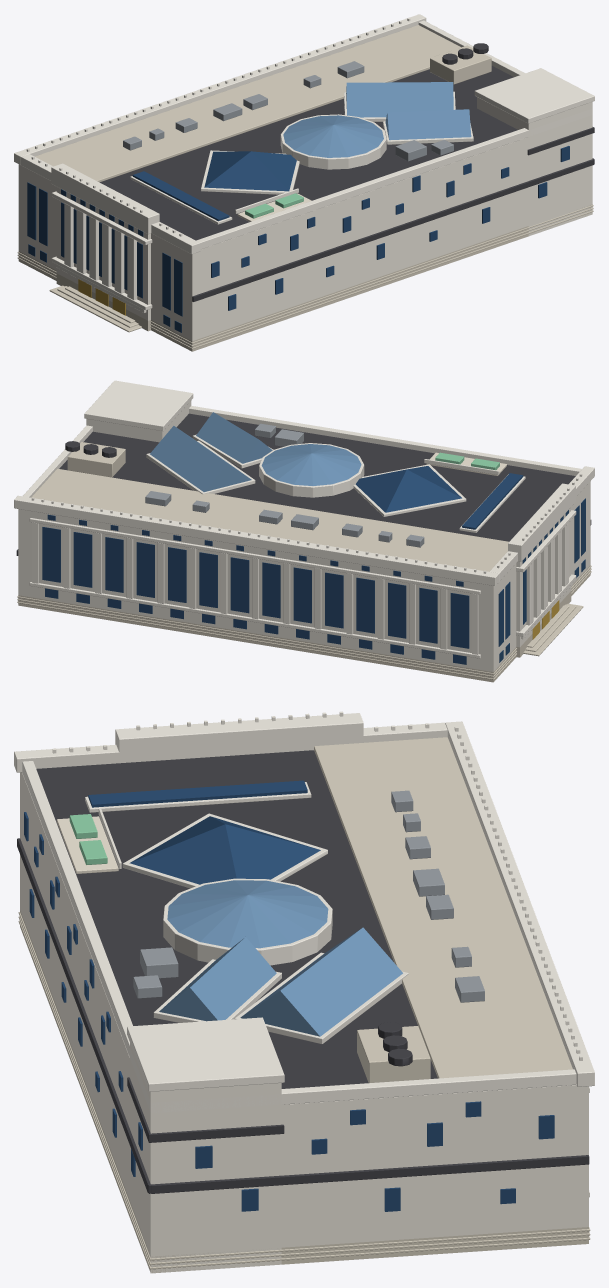
Rendered from sf-main-library.optimized.glb.
3 views of the same model, one above another, from view 1: azimuth 30°, elevation 25°; view 2: azimuth 150°, elevation 25°; view 3: azimuth 270°, elevation 25° (orthographic). The views are drawn at different scales.
Visible parts, largest first — view 1: grp_Toy_cream, grp_Toy_trim, grp_Toy_stone, grp_Toy_roofd, grp_Toy_glass, grp_Toy_glassl_Glow, grp_Toy_steel, grp_Toy_mint, grp_Toy_gold_Glow; view 2: grp_Toy_trim, grp_Toy_glass, grp_Toy_stone, grp_Toy_cream, grp_Toy_roofd, grp_Toy_glassl_Glow, grp_Toy_steel, grp_Toy_mint; view 3: grp_Toy_cream, grp_Toy_stone, grp_Toy_trim, grp_Toy_roofd, grp_Toy_glassl_Glow, grp_Toy_glass, grp_Toy_steel, terrace, grp_Toy_mint.
Boxes of the visible parts, box(x1,y1,x2,y2) form: grp_Toy_cream: box(18, 97, 592, 341); grp_Toy_trim: box(14, 14, 594, 312); grp_Toy_stone: box(17, 25, 593, 351); grp_Toy_roofd: box(100, 43, 594, 301); grp_Toy_glass: box(27, 146, 569, 332); grp_Toy_glassl_Glow: box(283, 82, 471, 157); grp_Toy_steel: box(123, 61, 453, 161); grp_Toy_mint: box(245, 193, 303, 218); grp_Toy_gold_Glow: box(78, 279, 125, 315); grp_Toy_trim: box(14, 380, 594, 658); grp_Toy_glass: box(42, 466, 585, 664); grp_Toy_stone: box(17, 442, 591, 682); grp_Toy_cream: box(18, 401, 590, 671); grp_Toy_roofd: box(16, 413, 591, 555); grp_Toy_glassl_Glow: box(150, 412, 361, 491); grp_Toy_steel: box(145, 423, 424, 547); grp_Toy_mint: box(435, 452, 499, 470); grp_Toy_cream: box(20, 772, 588, 1273); grp_Toy_stone: box(18, 737, 590, 1273); grp_Toy_trim: box(14, 711, 594, 1197); grp_Toy_roofd: box(17, 750, 589, 1193); grp_Toy_glassl_Glow: box(159, 880, 402, 1036); grp_Toy_glass: box(24, 780, 554, 1211); grp_Toy_steel: box(133, 790, 484, 1002); terrace: box(56, 816, 118, 873); grp_Toy_mint: box(69, 814, 107, 864).
Size of the model in its own units: 116 by 28.98 by 74.51.
